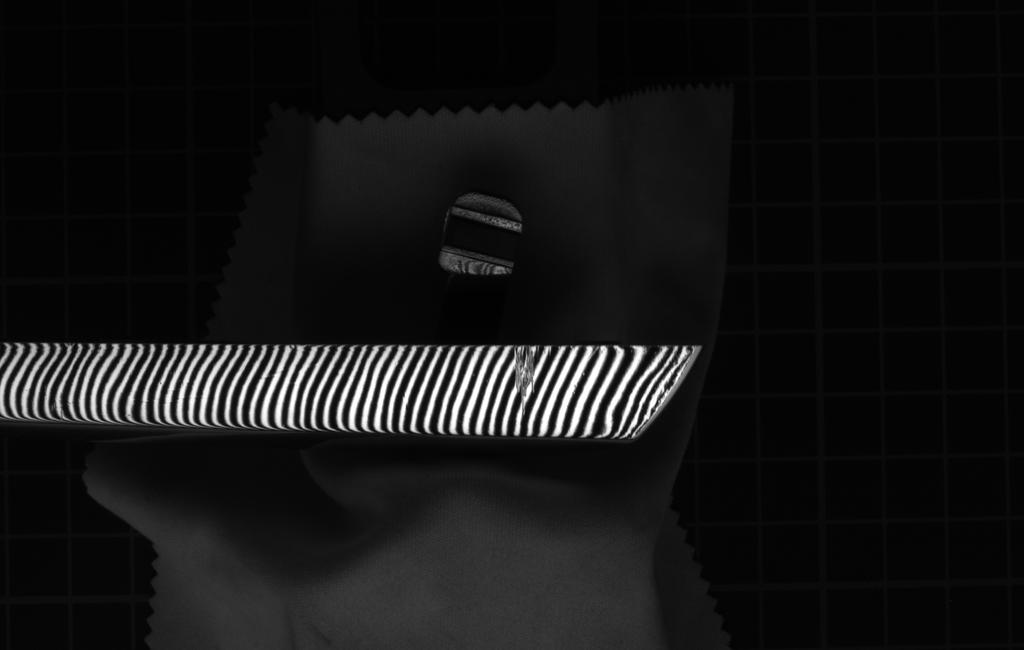Pitting: (504, 339, 542, 424)
